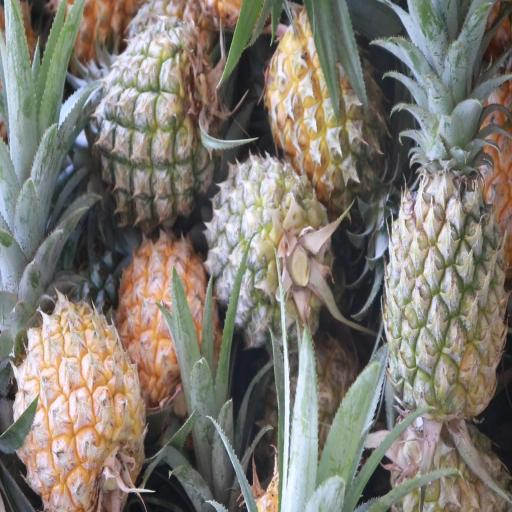------------------------------: (92, 29, 217, 220), (265, 10, 387, 197), (208, 154, 326, 338)
Pineapple - v8 v1: (18, 303, 149, 505), (120, 231, 226, 413)
